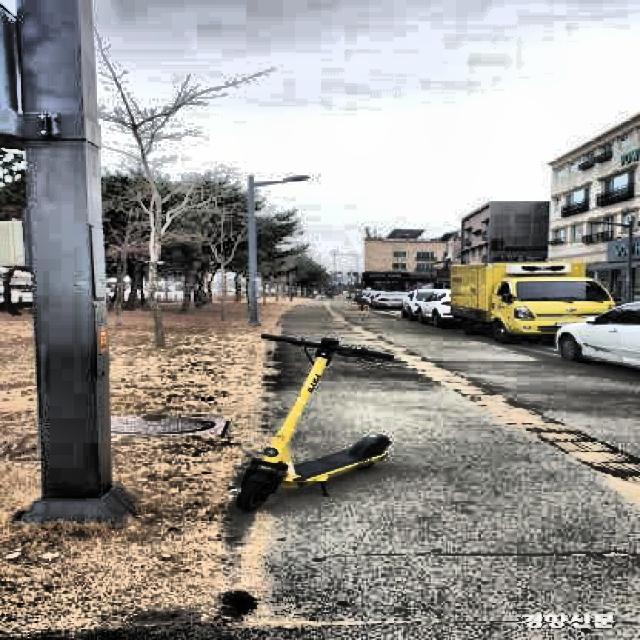bike: (235, 332, 394, 513), (235, 431, 394, 512)
car: (553, 299, 640, 384)
